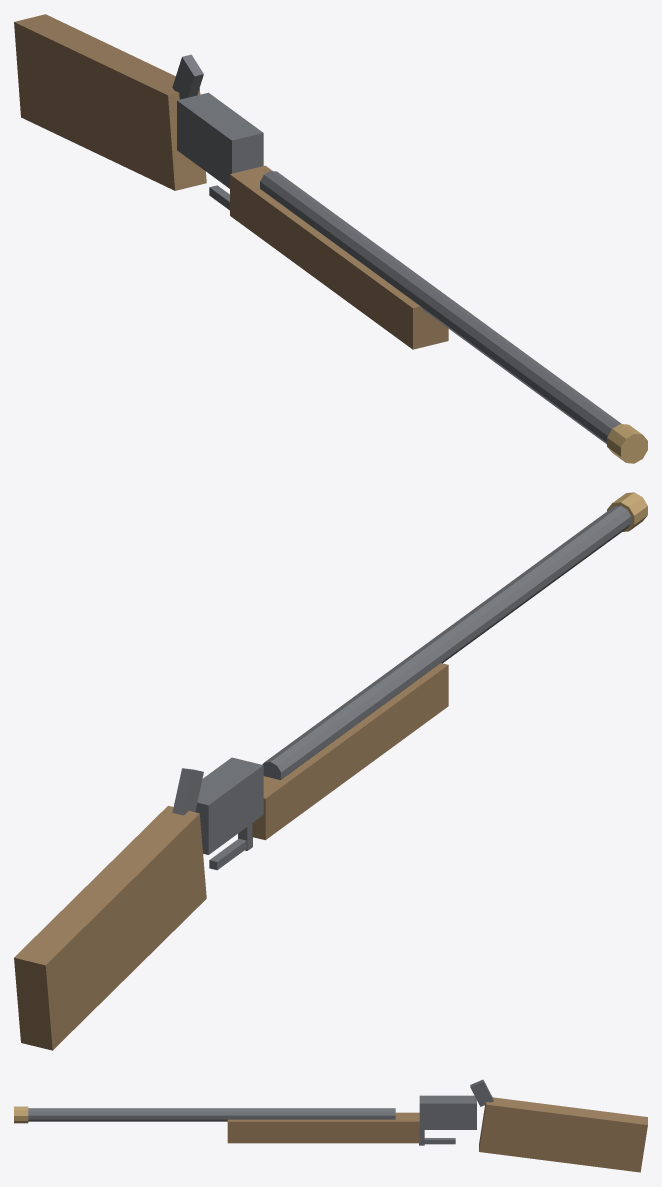
File: fusil.glb
The picture shows the model from 3 angles, top to bottom: view 1: azimuth 30°, elevation 25°; view 2: azimuth 150°, elevation 25°; view 3: azimuth 270°, elevation 25°; orthographic projection. The views are drawn at different scales.
Parts seen in each view (by area): view 1: fusil; view 2: fusil; view 3: fusil.
Boxes of the visible parts, x1=… form: fusil: x1=14, y1=14, x2=647, y2=463; fusil: x1=14, y1=492, x2=647, y2=1050; fusil: x1=14, y1=1079, x2=647, y2=1172.
Size of the model in its own units: 0.045 by 0.2021 by 1.32.
